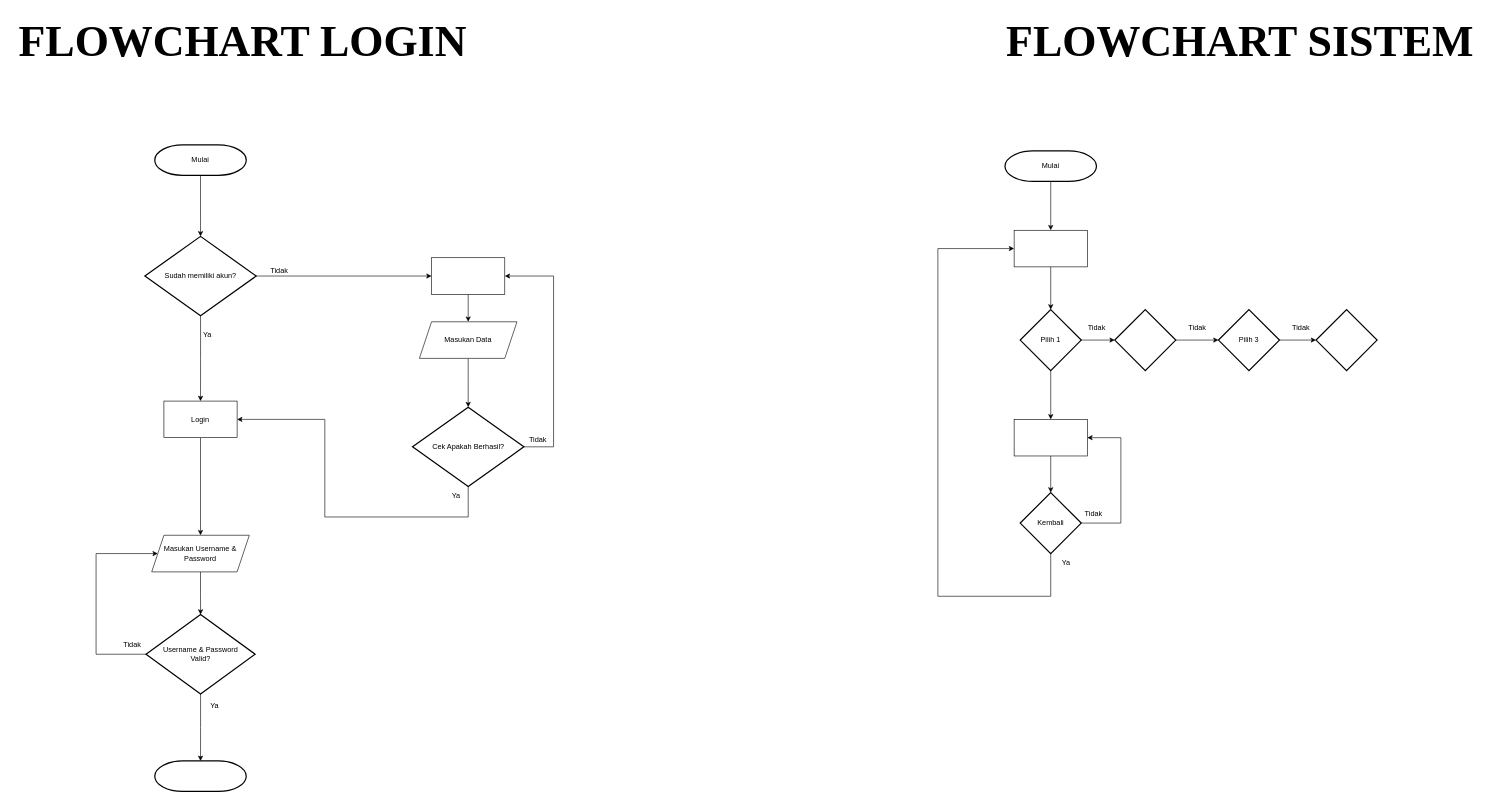
The diagram is 1491 pixels wide and 802 high, and some of its shapes have lost their labels. The box of each missing label's shape, as (x1, y1, x2, y2) in pixels:
1. Daftar Produk 2. Belanja 3. Daftar Transaksi 4. Keluar: (1014, 230, 1087, 267)
Pilih 2: (1114, 309, 1176, 371)
Pilih 4: (1315, 309, 1377, 371)
Registrasi: (431, 257, 505, 294)
Selesai: (154, 760, 247, 792)
Tampilan Produk: (1014, 419, 1087, 456)
